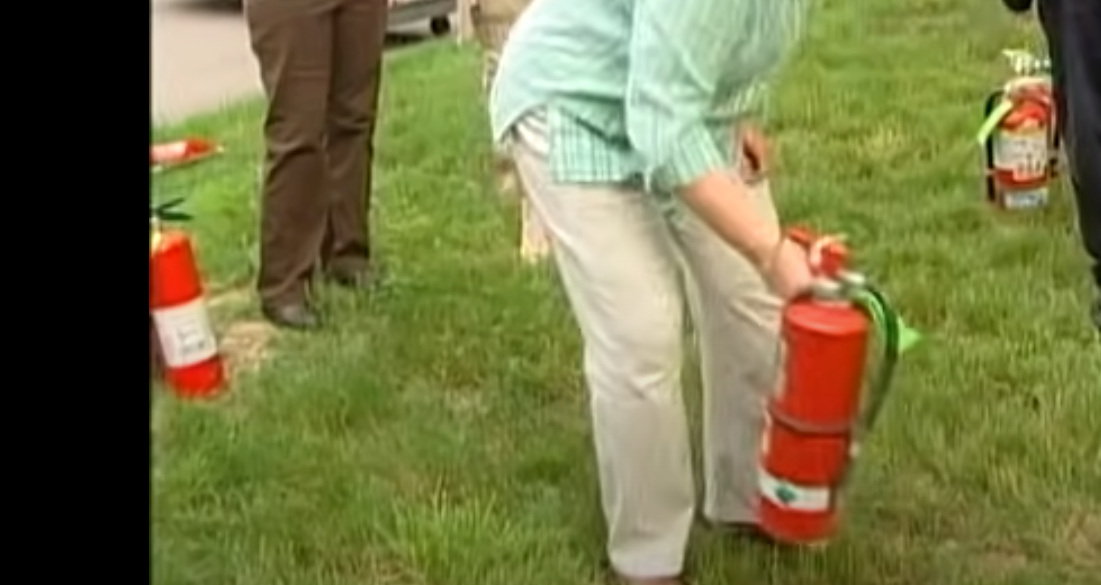fire_extinguisher: (752, 224, 905, 549), (149, 196, 230, 402), (982, 47, 1060, 212)
